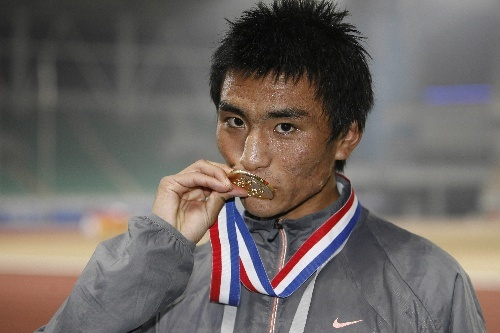face: (215, 63, 328, 217)
